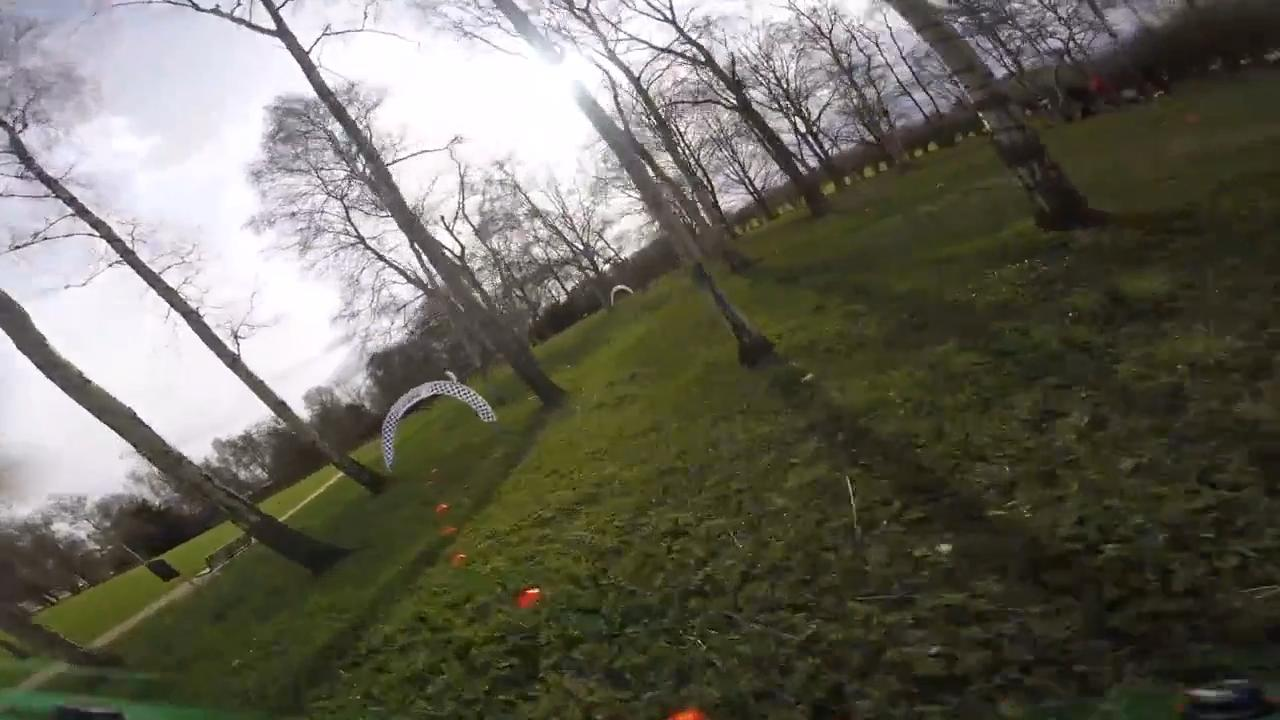gate: (381, 379, 497, 475)
